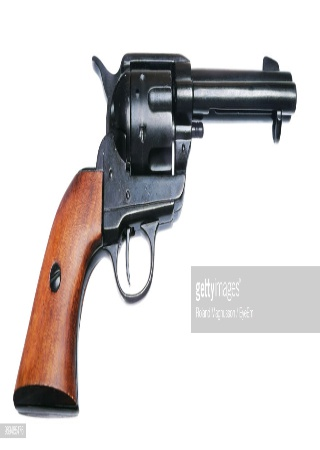handgun: (9, 47, 299, 414)
